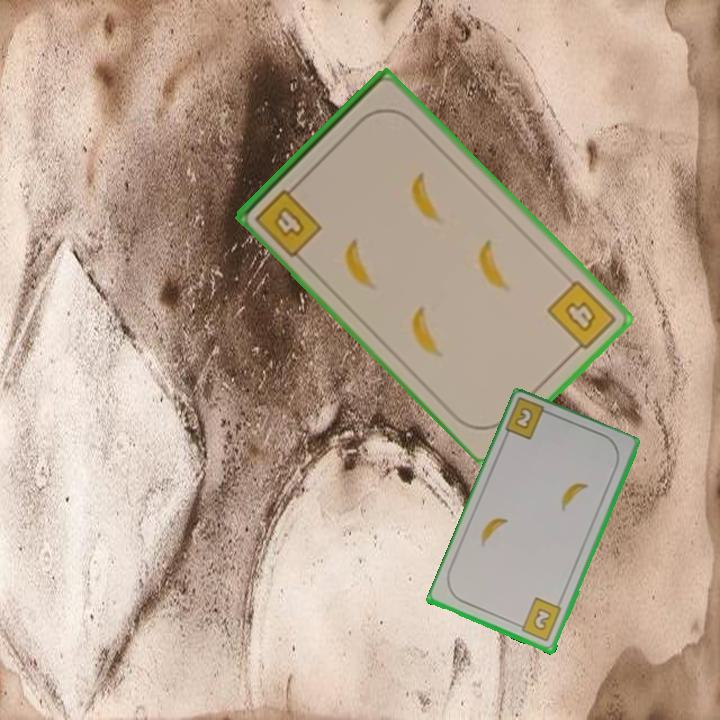2b: (513, 595, 565, 645), (511, 404, 536, 433)
4b: (544, 276, 620, 358), (251, 178, 326, 260)
